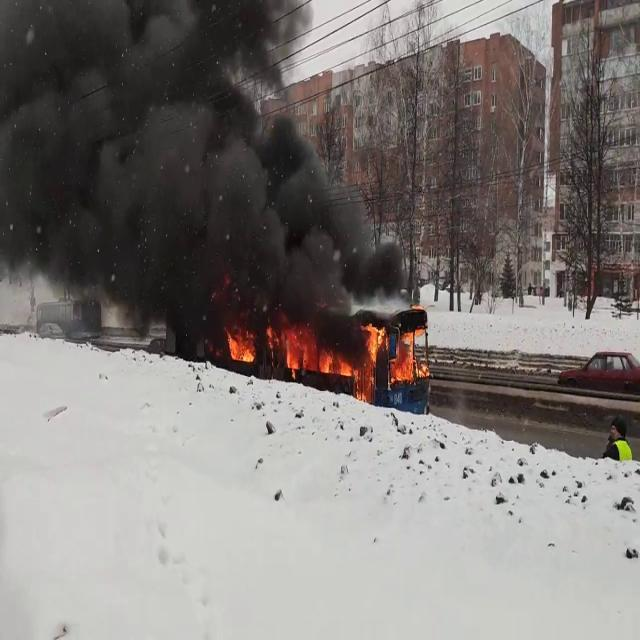Fire: (282, 317, 431, 391)
Smoke: (0, 0, 412, 336)
